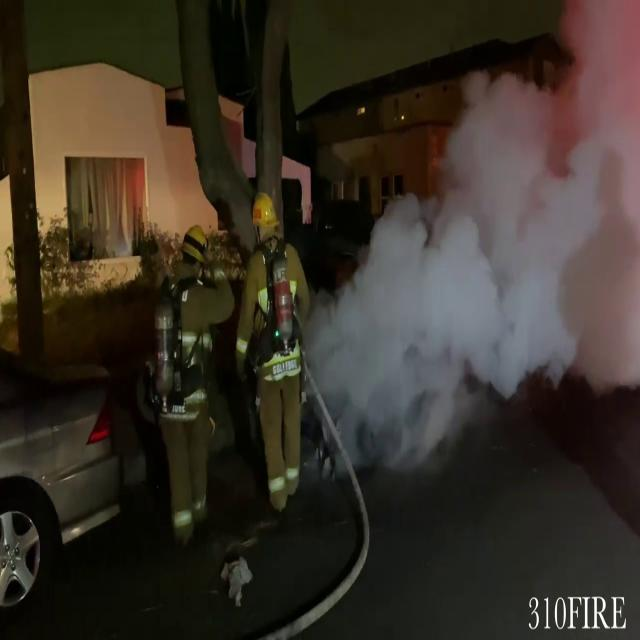Smoke: (313, 21, 640, 483)
